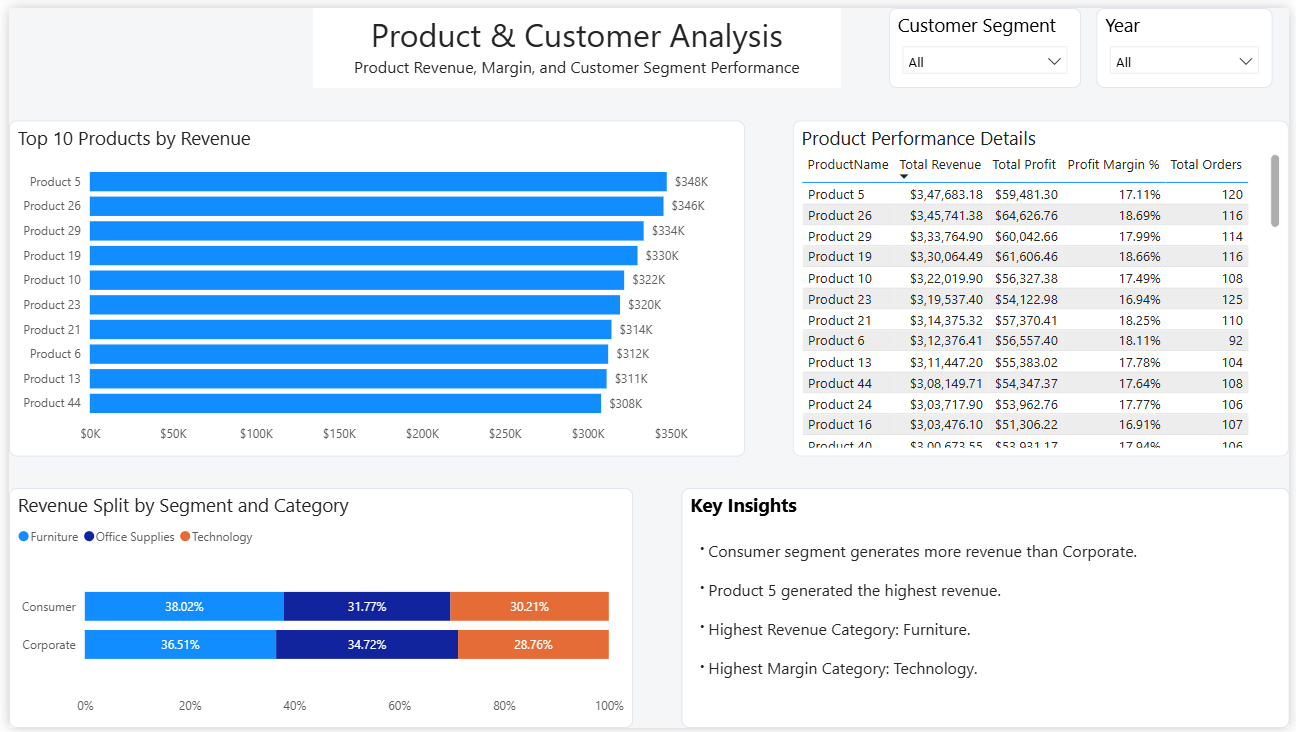

What the dashboard file says about the page in this screenshot:
{"tool":"powerbi","page":{"name":"Product & Customer Analysis","canvas":[1280,720],"ordinal":2},"visuals":[{"type":"barChart","title":"Top 10 Products by Revenue","fields":{"Y":["_TableMeasures.Total Revenue"],"Category":["DimProducts.ProductName"]},"box":[0,112,736,336],"z":0},{"type":"hundredPercentStackedBarChart","title":"Revenue Split by Segment and Category","fields":{"Category":["DimCustomers.Segment"],"Y":["_TableMeasures.Total Revenue"],"Series":["DimProducts.Category"]},"box":[0,480,624,240],"z":1000},{"type":"tableEx","title":"Product Performance Details","fields":{"Values":["DimProducts.ProductName","_TableMeasures.Total Revenue","_TableMeasures.Total Profit","_TableMeasures.Profit Margin %","_TableMeasures.Total Orders"]},"box":[784,112,496,336],"z":2000},{"type":"textbox","title":"Key Insights","box":[672,480,608,240],"z":3000},{"type":"slicer","title":"Customer Segment","fields":{"Values":["DimCustomers.Segment"]},"box":[880,0,192,80],"z":4000},{"type":"textbox","box":[304,0,528,80],"z":5000},{"type":"slicer","title":"Year","fields":{"Values":["DimCustomers.Segment"]},"box":[1088,0,176,80],"z":6000}]}

Visuals, with their boxes in screenshot pixels (x1, y1, x2, y2), scaled from the page's 1280x720 canvas onto the 1296x732 screenshot:
"Top 10 Products by Revenue" barChart: [0,114,745,455]
"Revenue Split by Segment and Category" hundredPercentStackedBarChart: [0,488,632,731]
"Product Performance Details" tableEx: [794,114,1295,455]
"Key Insights" textbox: [680,488,1295,731]
"Customer Segment" slicer: [891,0,1085,81]
textbox: [308,0,842,81]
"Year" slicer: [1102,0,1280,81]
